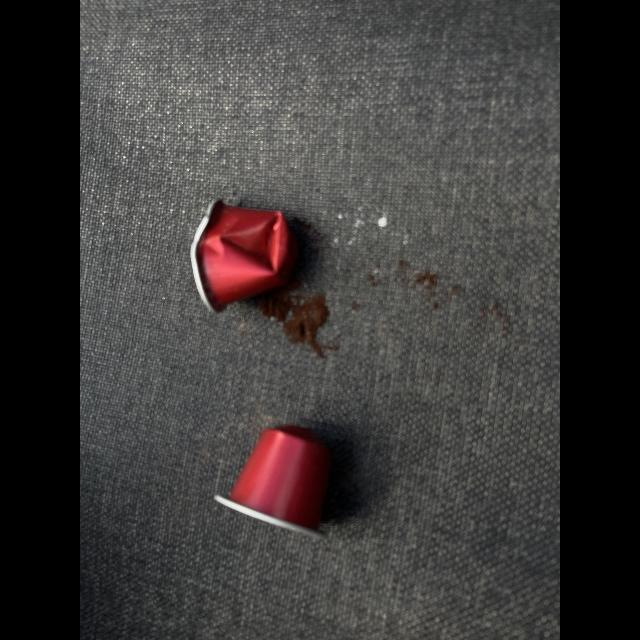damaged_capsule: (178, 189, 330, 319)
intact_capsule: (205, 412, 361, 558)
